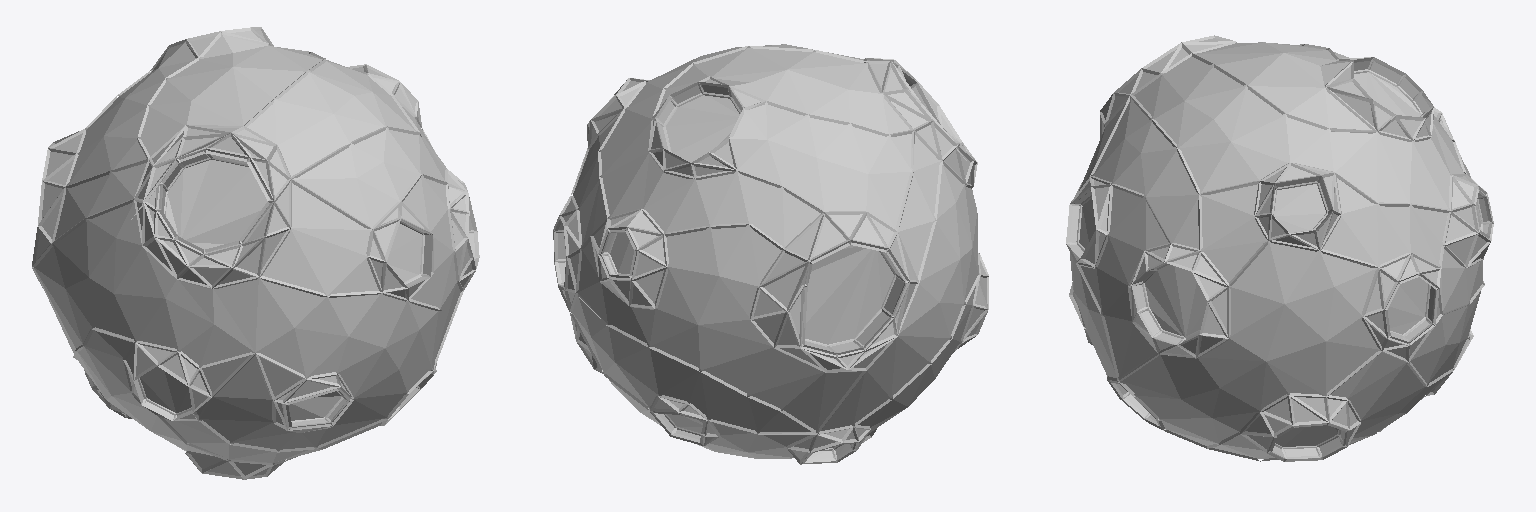
Rendered from moon.obj.
3 renders of one model, left to right at view 1: azimuth 30°, elevation 25°; view 2: azimuth 150°, elevation 25°; view 3: azimuth 270°, elevation 25°, orthographic.
Visible parts, largest first — view 1: LowER_Poly_Moon_02, Moon_Wireframe_06; view 2: LowER_Poly_Moon_02, Moon_Wireframe_06; view 3: LowER_Poly_Moon_02, Moon_Wireframe_06.
Boxes of the visible parts, box(x1,y1,x2,y2) form: LowER_Poly_Moon_02: box(34, 31, 474, 475); Moon_Wireframe_06: box(32, 27, 479, 479); LowER_Poly_Moon_02: box(558, 44, 986, 459); Moon_Wireframe_06: box(553, 46, 988, 464); LowER_Poly_Moon_02: box(1070, 38, 1488, 458); Moon_Wireframe_06: box(1066, 35, 1493, 461).
Size of the model in its own units: 2.02 by 2.1 by 2.07.